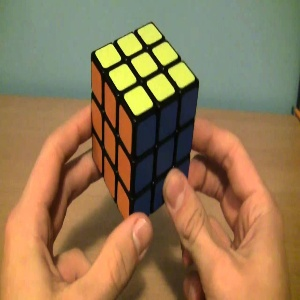cube: (91, 21, 200, 223)
